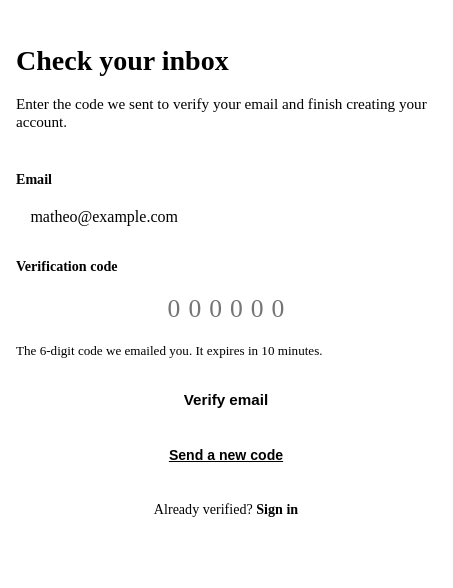
Scenario: VerifyEmailPage › shows the server message when the code is rejected
In the field labelled "Verification code": (226, 309) x1=16 y1=281 x2=436 y2=337, type "123456"
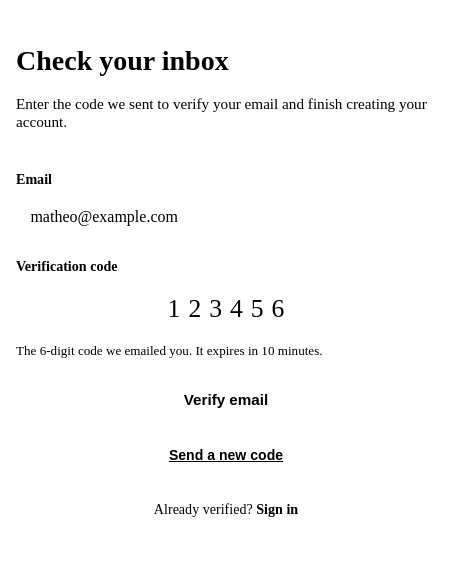
Click the button "Verify email": (226, 400) x1=16 y1=377 x2=436 y2=423
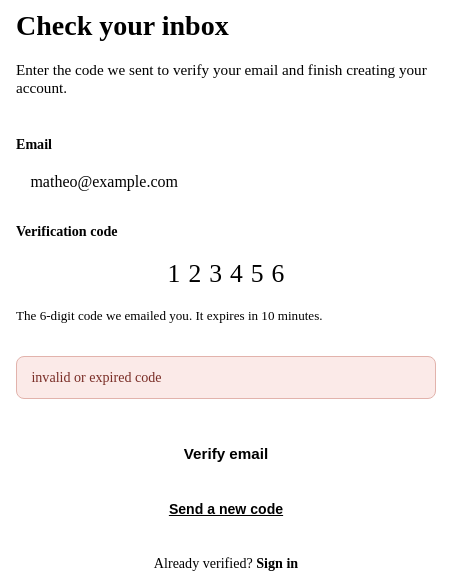
Expected: the text "invalid or expired code" is shown, x1=16 y1=356 x2=436 y2=399
